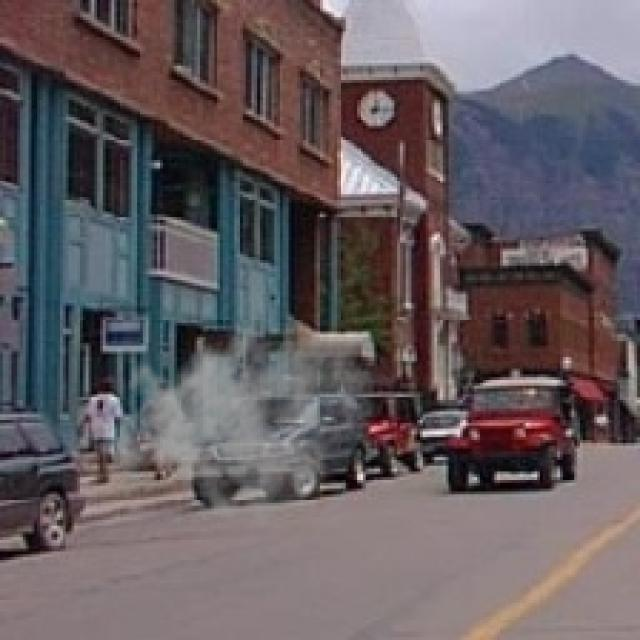smoke: (109, 303, 377, 531)
